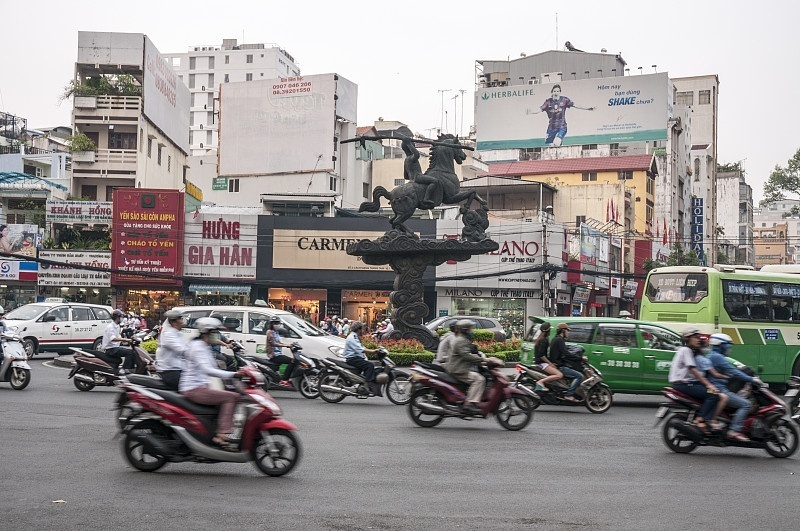non-vehicle: (98, 364, 314, 477), (650, 373, 800, 455), (405, 349, 529, 428), (69, 328, 145, 390), (527, 351, 598, 410), (318, 345, 389, 399), (250, 340, 319, 394), (0, 324, 30, 386)
